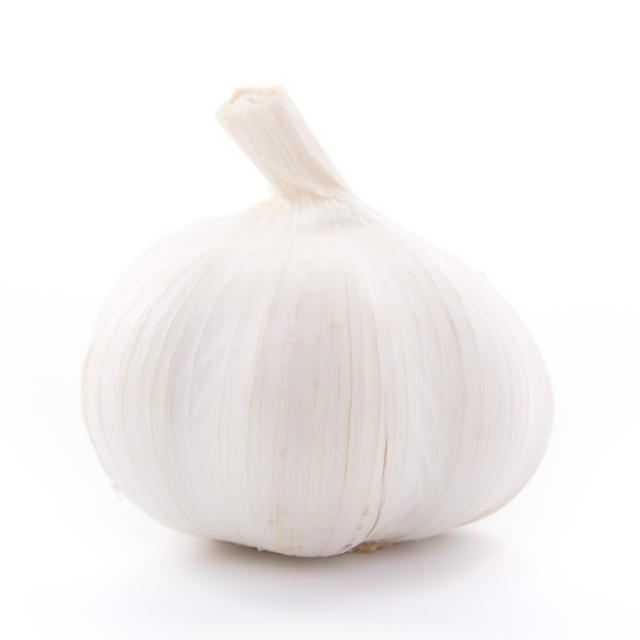garlic: (71, 189, 572, 566)
